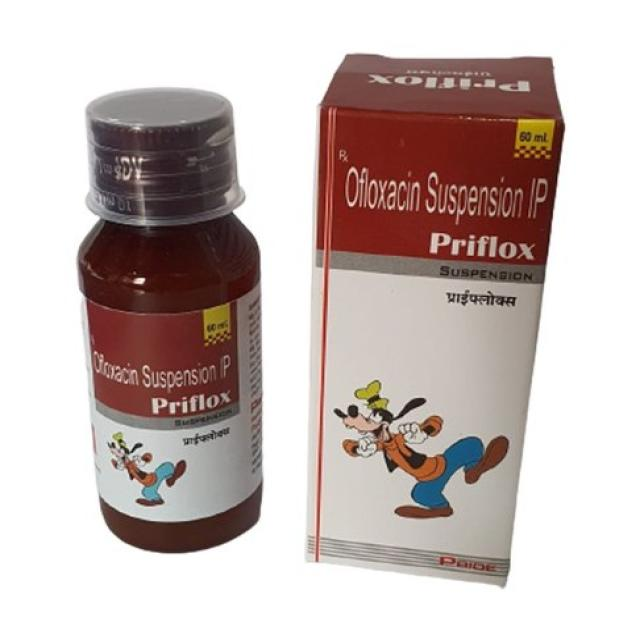B3: (65, 75, 298, 562)
